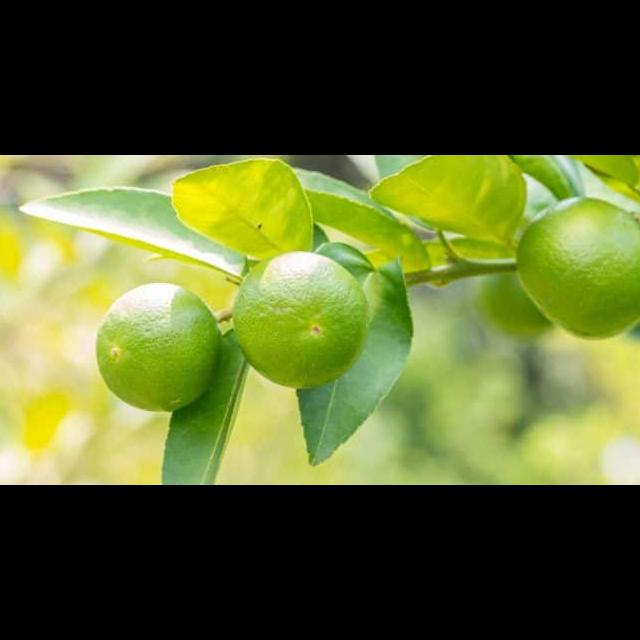lime: (226, 248, 376, 389), (502, 195, 640, 347), (92, 277, 224, 422)
